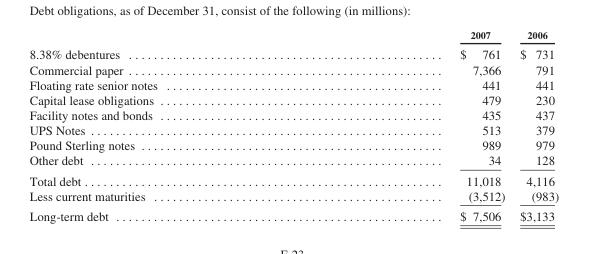table: (28, 28, 558, 222)
table column: (28, 28, 308, 222), (308, 28, 511, 222), (511, 28, 558, 222)
table column header: (28, 28, 558, 43)
table row: (28, 43, 558, 61), (28, 152, 558, 170), (28, 187, 558, 205), (28, 170, 558, 187), (28, 205, 558, 222), (28, 91, 558, 107), (28, 28, 558, 43), (28, 61, 558, 76), (28, 76, 558, 91), (28, 107, 558, 122), (28, 122, 558, 137), (28, 137, 558, 152)
